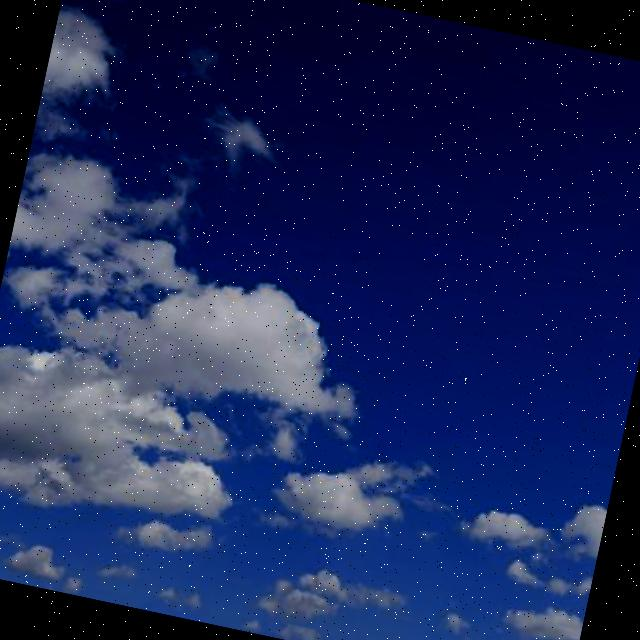Cu: (1, 11, 640, 640)
